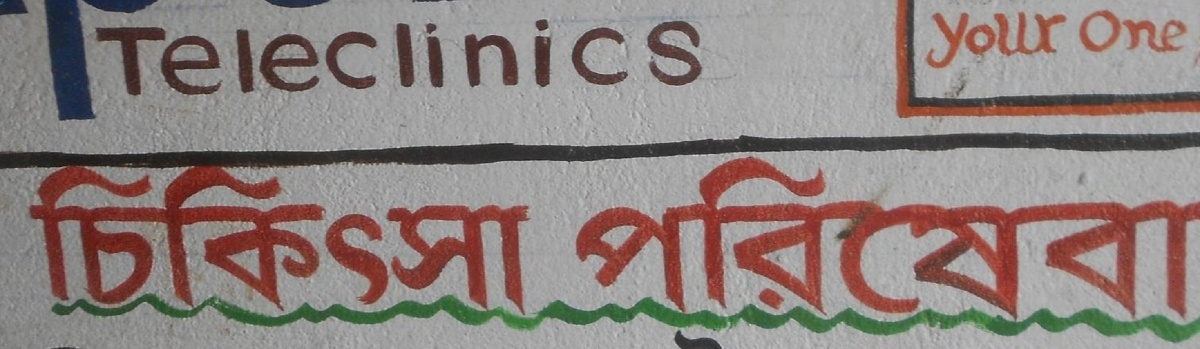text: (561, 148, 576, 324), (577, 148, 592, 324), (593, 148, 608, 324), (609, 148, 624, 324), (625, 148, 640, 324), (641, 148, 656, 324), (657, 148, 672, 324), (673, 148, 688, 324), (689, 148, 704, 324), (705, 148, 720, 324), (721, 148, 736, 324), (737, 148, 752, 324), (753, 148, 768, 324), (769, 148, 784, 324), (785, 148, 800, 324), (801, 148, 816, 324), (817, 148, 832, 324), (833, 148, 848, 324), (849, 148, 864, 324), (865, 148, 880, 324), (881, 148, 896, 324), (897, 148, 912, 324), (913, 148, 928, 324), (929, 148, 944, 324), (945, 148, 960, 324), (961, 148, 976, 324), (977, 148, 992, 324), (993, 148, 1008, 324), (1009, 148, 1024, 324), (1025, 148, 1040, 324), (1041, 148, 1056, 324), (1057, 148, 1072, 324), (1073, 148, 1088, 324), (1089, 148, 1104, 324), (1105, 148, 1120, 324), (1121, 148, 1136, 324), (1137, 148, 1152, 324), (1153, 148, 1168, 324), (1169, 148, 1184, 324), (33, 158, 48, 318), (49, 158, 64, 318), (65, 158, 80, 318), (81, 158, 96, 318), (97, 158, 112, 318), (113, 158, 128, 318), (129, 158, 144, 318), (145, 158, 160, 318), (161, 158, 176, 318), (177, 158, 192, 318), (193, 158, 208, 318), (209, 158, 224, 318), (225, 158, 240, 318), (241, 158, 256, 318), (257, 158, 272, 318), (273, 158, 288, 318), (289, 158, 304, 318), (305, 158, 320, 318), (321, 158, 336, 318), (337, 158, 352, 318), (353, 158, 368, 318), (369, 158, 384, 318), (385, 158, 400, 318), (401, 158, 416, 318), (417, 158, 432, 318), (433, 158, 448, 318), (449, 158, 464, 318), (465, 158, 480, 318), (481, 158, 496, 318), (497, 158, 512, 318), (513, 158, 528, 318), (1185, 148, 1198, 324), (49, 1, 60, 124), (529, 158, 537, 318), (97, 18, 112, 102), (113, 18, 128, 102), (129, 18, 144, 102), (145, 18, 160, 102), (161, 18, 176, 102), (177, 18, 192, 102), (193, 18, 208, 102), (209, 18, 224, 102), (225, 18, 240, 102), (241, 18, 256, 102), (257, 18, 272, 102), (273, 18, 288, 102), (289, 18, 304, 102), (305, 18, 320, 102), (321, 18, 336, 102), (337, 18, 352, 102), (353, 18, 368, 102), (369, 18, 384, 102), (385, 18, 400, 102), (401, 18, 416, 102), (417, 18, 432, 102), (433, 18, 448, 102), (449, 18, 464, 102), (465, 18, 480, 102), (481, 18, 496, 102), (497, 18, 512, 102), (513, 18, 528, 102), (529, 18, 544, 102), (545, 18, 560, 102), (561, 18, 576, 102), (577, 18, 592, 102), (593, 18, 608, 102), (609, 18, 624, 102), (625, 18, 640, 102), (641, 18, 656, 102), (657, 18, 672, 102), (673, 18, 688, 102), (689, 18, 704, 102), (945, 9, 960, 71), (961, 9, 976, 71), (977, 9, 992, 71), (993, 9, 1008, 71), (1009, 9, 1024, 71), (1025, 9, 1040, 71), (1041, 9, 1056, 71), (930, 9, 944, 71), (27, 158, 32, 318), (705, 18, 714, 102), (1057, 9, 1069, 71), (1089, 9, 1104, 54), (1105, 9, 1120, 54), (1121, 9, 1136, 54), (1137, 9, 1152, 54), (1153, 9, 1168, 54), (1169, 9, 1184, 54), (43, 1, 48, 124), (91, 18, 96, 102), (1080, 9, 1088, 54), (1, 2, 16, 26), (673, 327, 688, 349), (689, 327, 704, 349), (705, 327, 720, 349), (17, 2, 29, 26), (1185, 9, 1191, 54), (273, 2, 288, 16), (289, 2, 304, 16), (305, 2, 320, 16), (321, 2, 336, 16), (258, 2, 272, 16), (97, 2, 112, 15), (113, 2, 128, 15), (129, 2, 144, 15), (145, 2, 160, 15), (83, 2, 96, 15), (721, 327, 728, 349), (668, 327, 672, 349), (337, 2, 339, 16), (161, 2, 162, 15)
